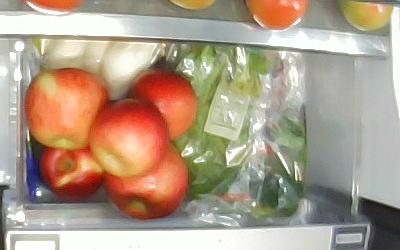apple: (25, 68, 109, 150), (103, 141, 189, 220), (88, 96, 170, 178), (127, 69, 198, 142), (38, 146, 106, 201)
